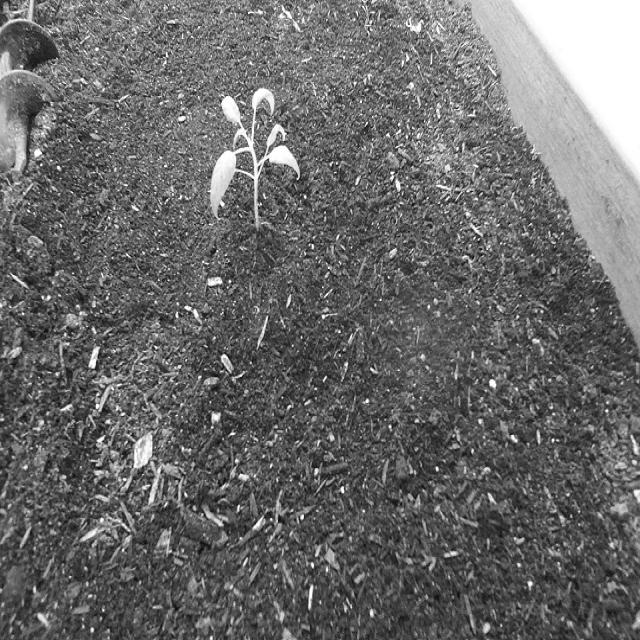Healthy: (208, 82, 305, 244)
